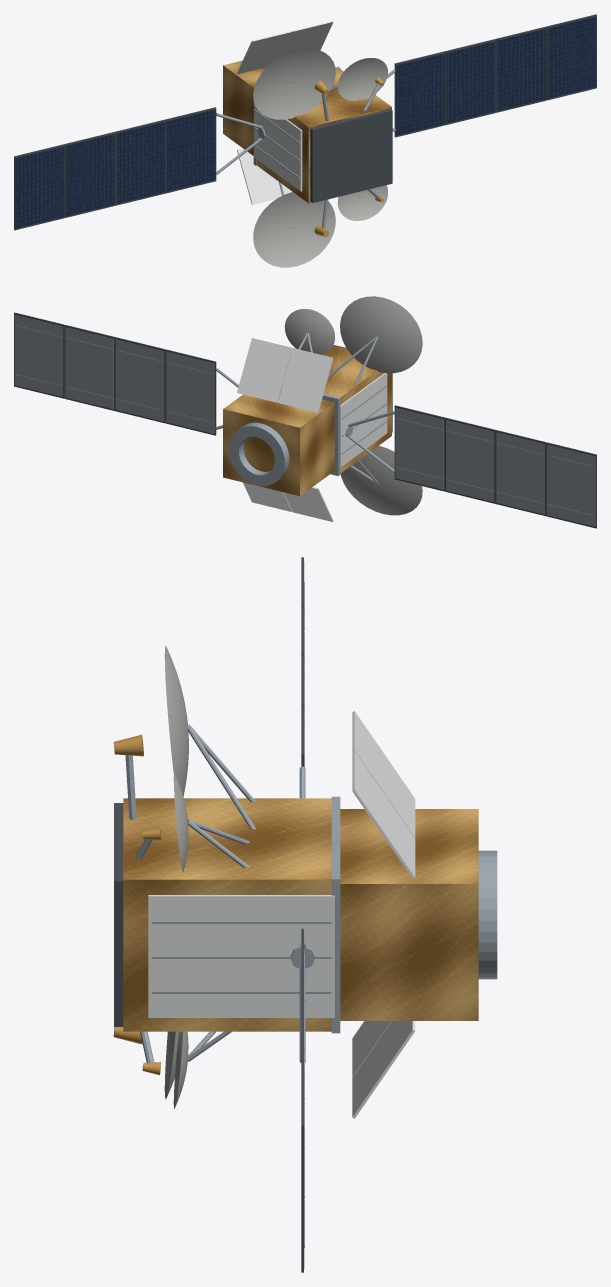
File: ref-a2100tr-44034.glb
3 views of the same model, one above another, from view 1: azimuth 30°, elevation 25°; view 2: azimuth 150°, elevation 25°; view 3: azimuth 270°, elevation 25° (orthographic). The views are drawn at different scales.
Parts seen in each view (by area): view 1: Solar cell panel (×8), Communications reflector (×4), Earth-facing deck, Solar panel frame (×8), Deployed radiator leaf (×3), Payload module, Radiator face, Service module; view 2: Rear array substrate (×8), Communications reflector (×3), Service module, Deployed radiator leaf (×4), Solar panel frame (×8), Radiator face, Payload module, Launch adapter ring, Module interface; view 3: Service module, Payload module, Radiator face, Deployed radiator leaf (×4), Launch adapter ring, Earth-facing deck, Communications reflector, Module interface.
Boxes of the visible parts, left/top/right/bottom form: Solar cell panel (×8): left=15, top=16, right=596, bottom=228; Communications reflector (×4): left=253, top=48, right=387, bottom=267; Earth-facing deck: left=310, top=109, right=392, bottom=202; Solar panel frame (×8): left=14, top=14, right=596, bottom=230; Deployed radiator leaf (×3): left=237, top=21, right=333, bottom=204; Payload module: left=256, top=69, right=391, bottom=203; Radiator face: left=254, top=103, right=302, bottom=191; Service module: left=223, top=60, right=265, bottom=155; Rear array substrate (×8): left=14, top=314, right=595, bottom=526; Communications reflector (×3): left=284, top=296, right=422, bottom=515; Service module: left=223, top=390, right=334, bottom=496; Deployed radiator leaf (×4): left=237, top=338, right=333, bottom=521; Solar panel frame (×8): left=14, top=312, right=596, bottom=528; Radiator face: left=339, top=373, right=387, bottom=467; Payload module: left=283, top=345, right=391, bottom=472; Launch adapter ring: left=229, top=422, right=289, bottom=485; Module interface: left=281, top=384, right=340, bottom=476; Service module: left=340, top=809, right=478, bottom=1020; Payload module: left=123, top=798, right=331, bottom=1031; Radiator face: left=148, top=895, right=334, bottom=1017; Deployed radiator leaf (×4): left=352, top=711, right=415, bottom=1118; Launch adapter ring: left=478, top=850, right=497, bottom=979; Earth-facing deck: left=114, top=803, right=123, bottom=1026; Communications reflector: left=164, top=646, right=188, bottom=796; Module interface: left=331, top=796, right=340, bottom=1033.
Size of the model in its own units: 29.97 by 10.65 by 8.55.
8 materials, 2 textured.
